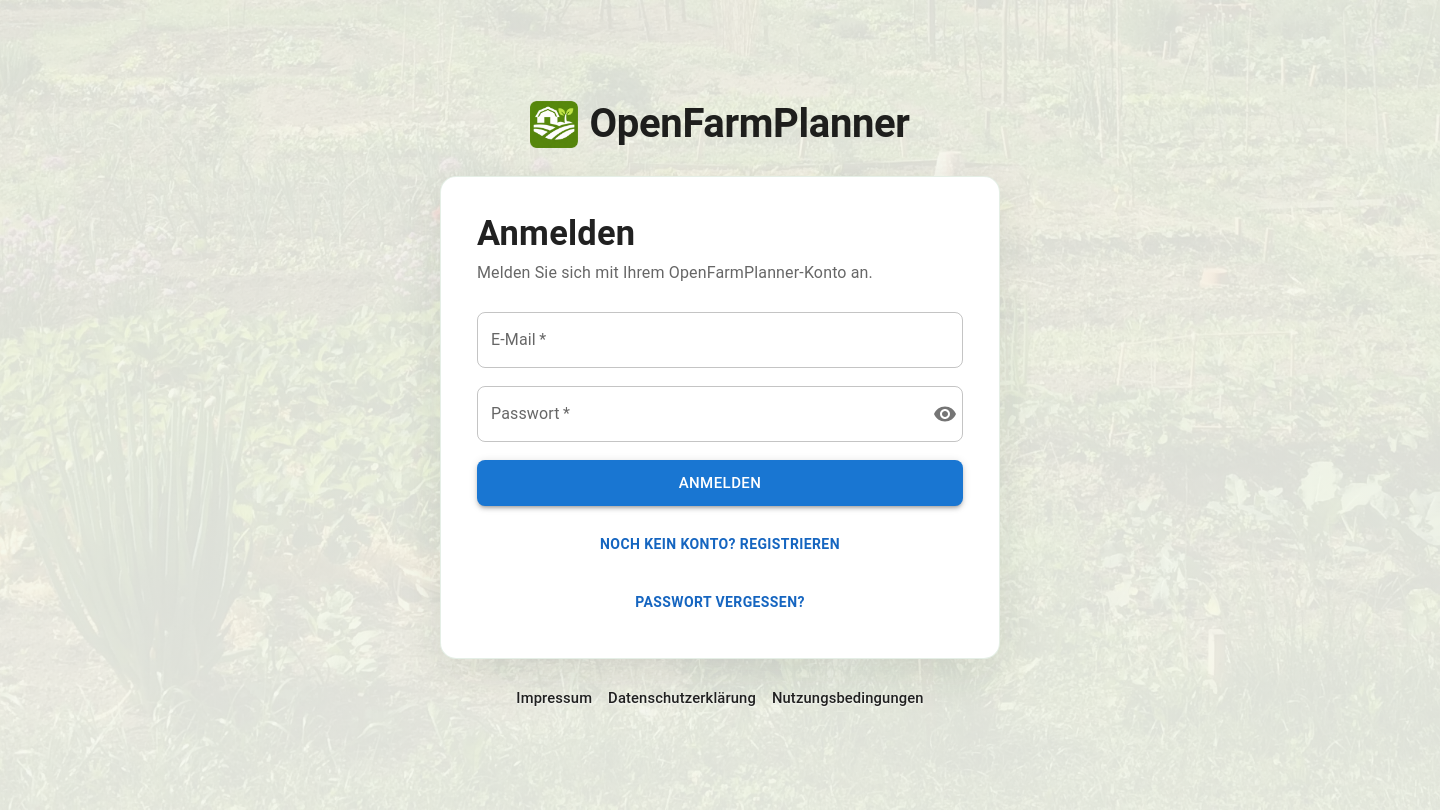
Test: LoginPage deletion flow › shows restore option for account_pending_deletion
The width and height of the screenshot is (1440, 810).
Type "demo@example.com" into the field labelled "E-Mail *" at (720, 340), box 477,312 -> 963,368
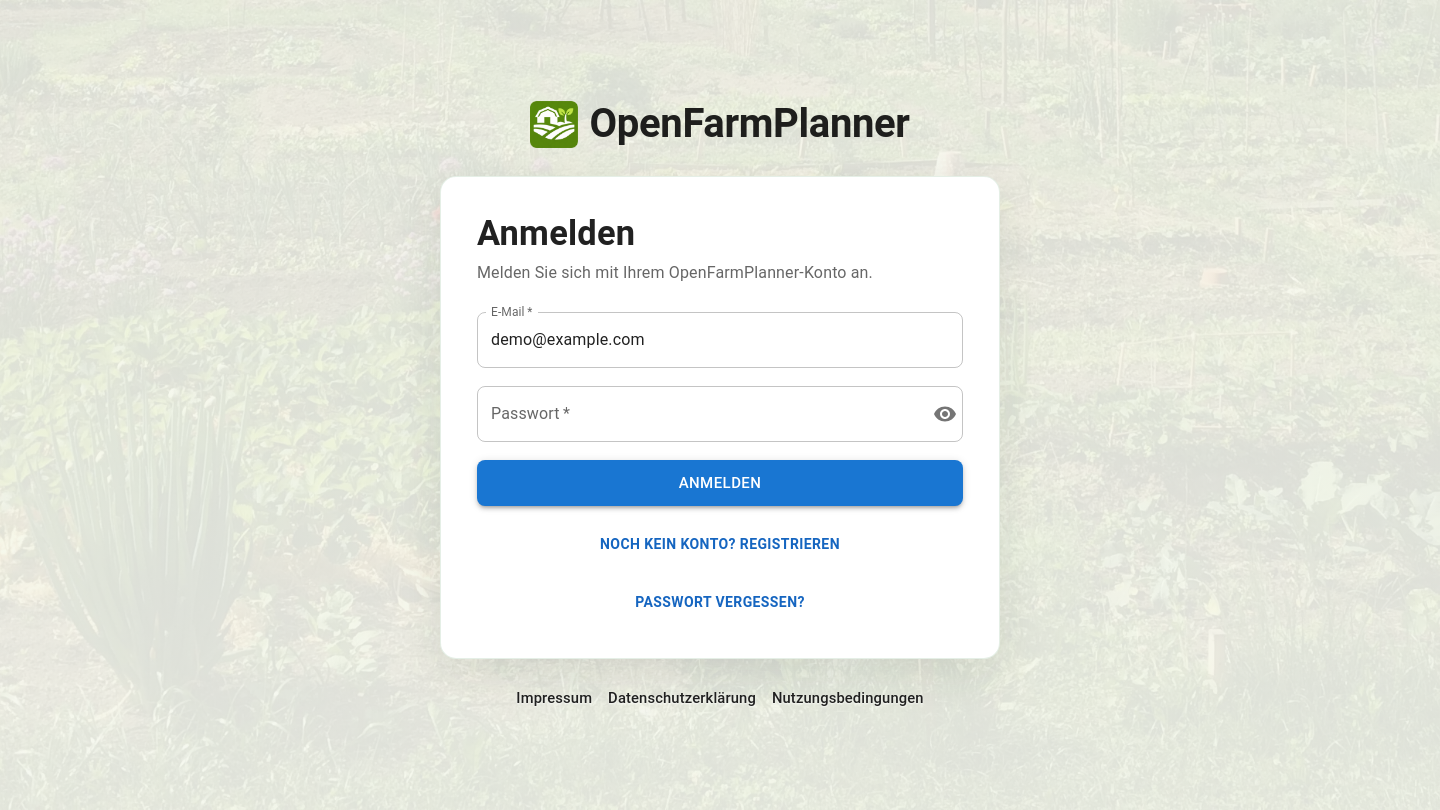
Type "secret" into the password field labelled "Passwort *" at (697, 414), box 477,386 -> 917,442
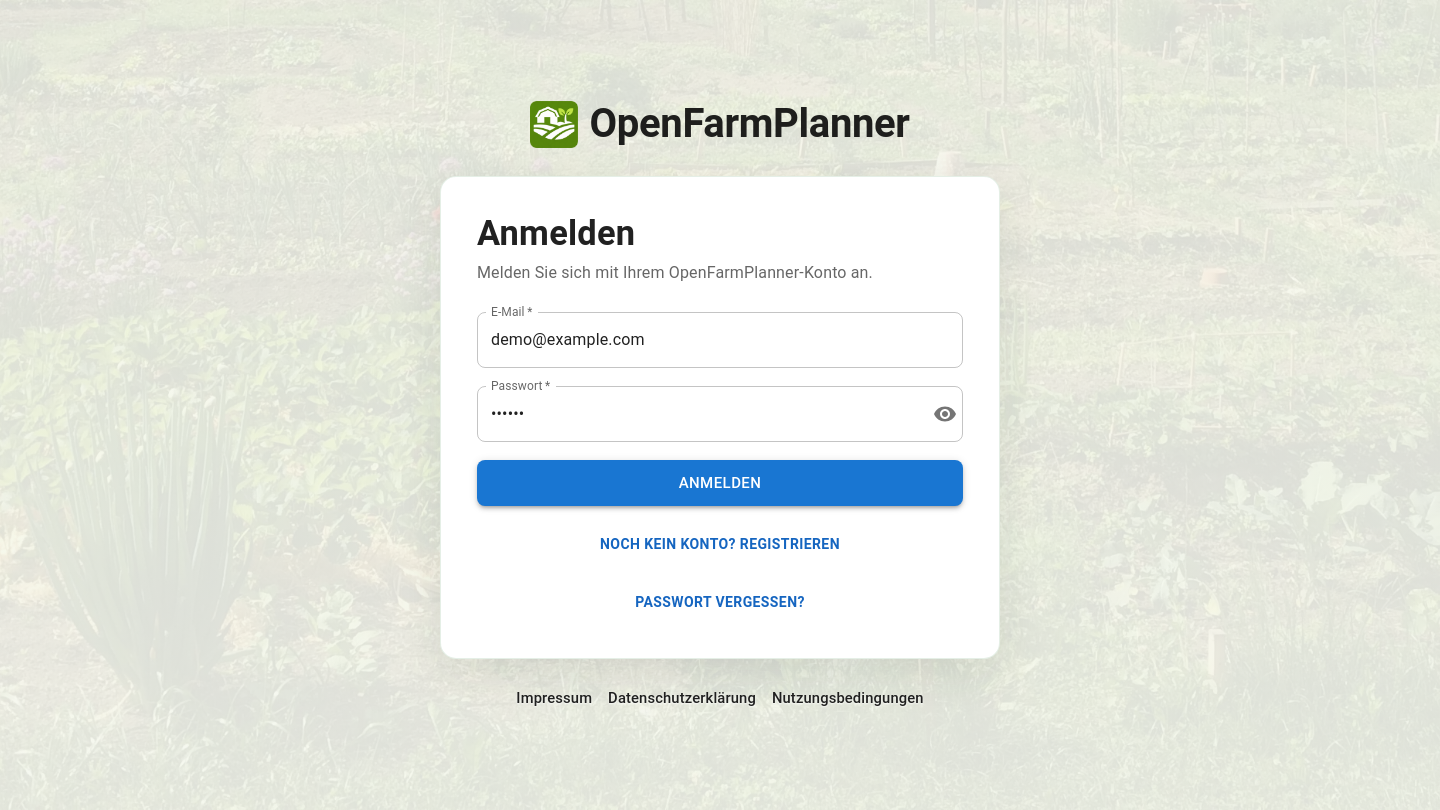
Click the button "Anmelden" at (720, 483), box 477,460 -> 963,506
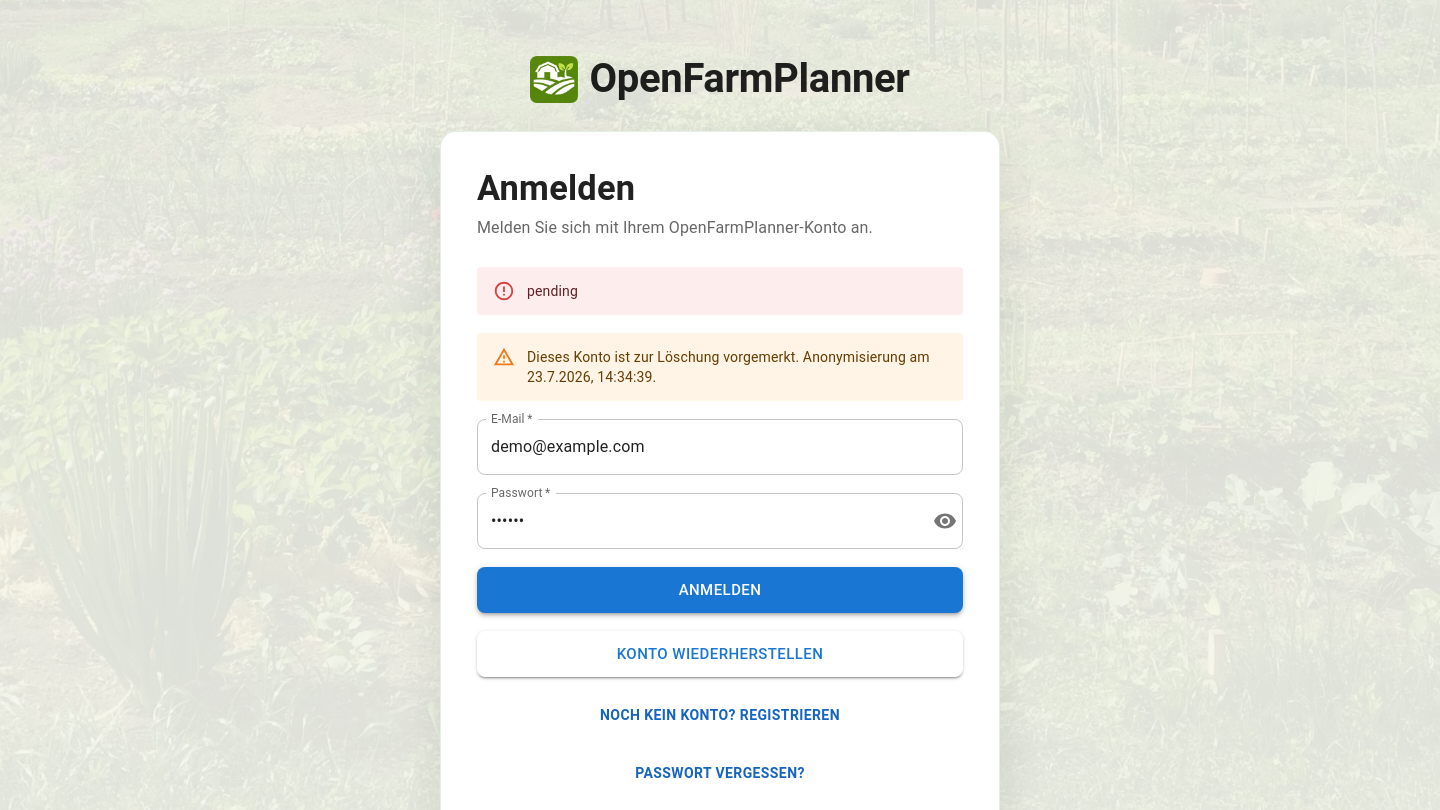
Expected: the button "Konto wiederherstellen" is shown, 477,631 -> 963,677
